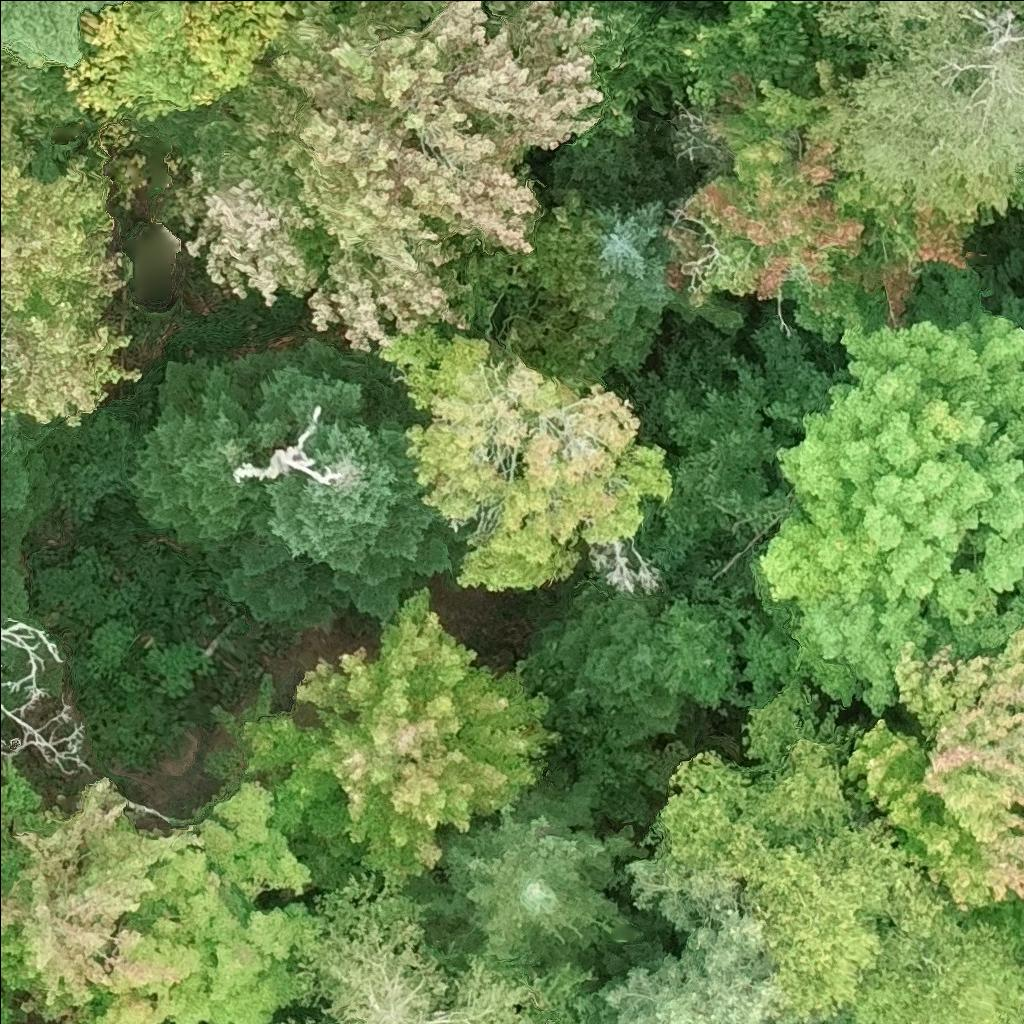crown: (158, 0, 610, 355), (650, 678, 1023, 1023), (752, 264, 1023, 719), (212, 586, 566, 889), (663, 54, 976, 349), (370, 324, 676, 592), (204, 332, 474, 630), (615, 312, 847, 600), (74, 774, 325, 1023), (0, 51, 147, 445), (0, 759, 205, 1023), (840, 622, 1023, 913), (407, 767, 646, 984), (273, 872, 603, 1023), (807, 0, 1023, 224), (575, 826, 777, 1023), (447, 199, 620, 387), (583, 177, 747, 374), (125, 350, 279, 555), (512, 578, 684, 747), (67, 0, 297, 124), (0, 0, 130, 73), (231, 406, 345, 489), (981, 896, 1023, 952), (723, 0, 807, 23), (0, 793, 14, 873), (789, 1014, 850, 1023), (29, 1022, 36, 1023)
